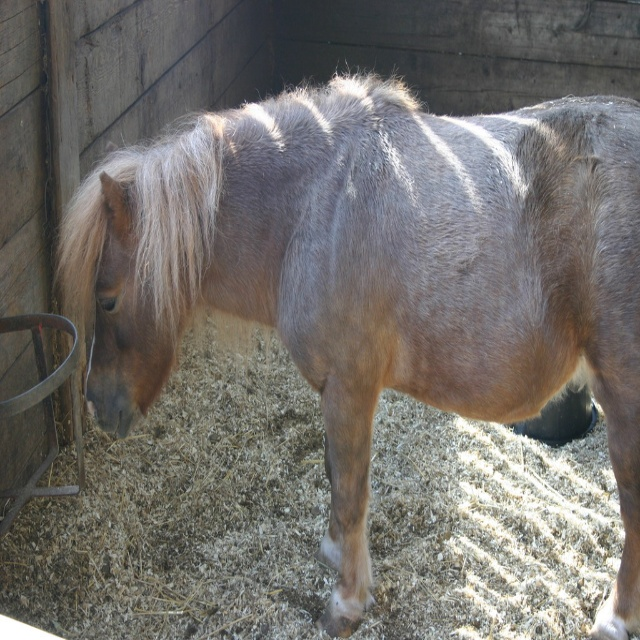Horse: (49, 53, 640, 640)
